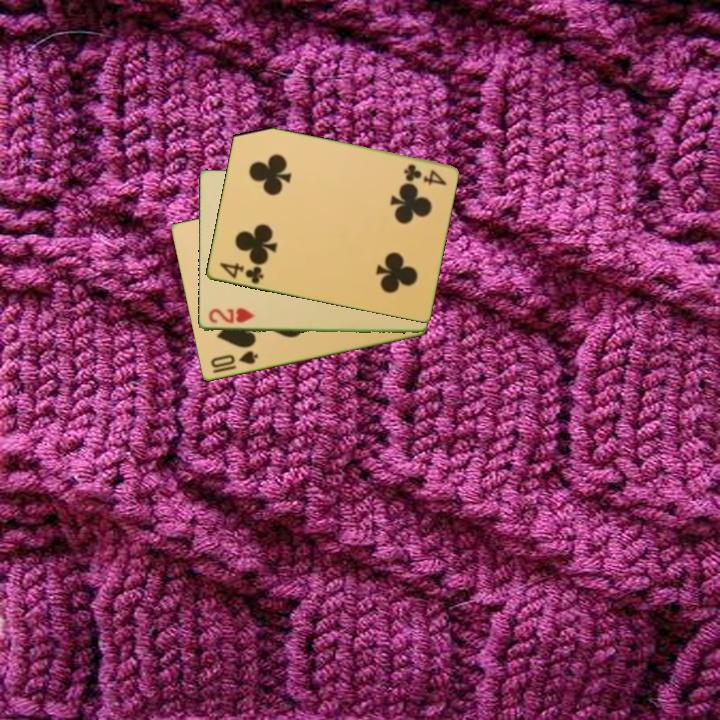10s: (207, 348, 261, 371)
2h: (205, 305, 257, 326)
4c: (216, 259, 266, 287), (400, 161, 449, 188)
